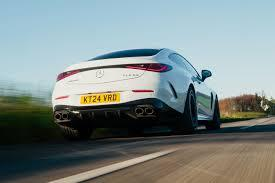mercedes: (94, 67, 105, 79)
